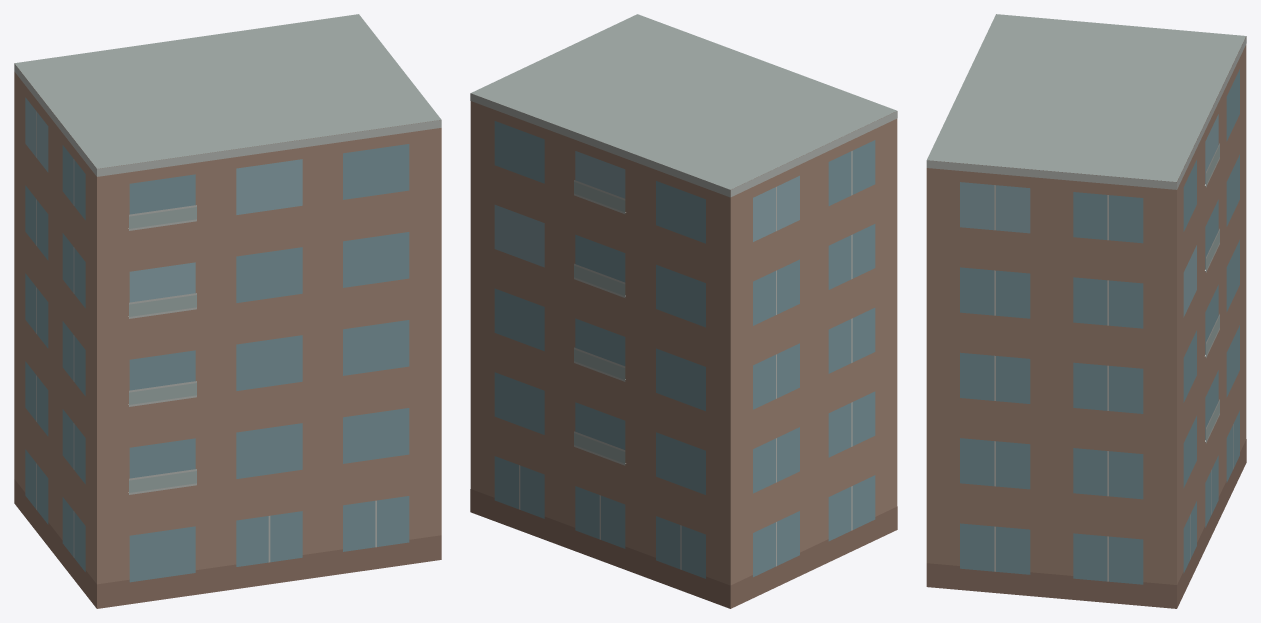
Rendered from survey-upis-32653342.glb.
3 renders of one model, left to right at view 1: azimuth 30°, elevation 25°; view 2: azimuth 150°, elevation 25°; view 3: azimuth 270°, elevation 25°, orthographic. The views are drawn at different scales.
Parts seen in each view (by area): view 1: survey-upis-32653342.tmp; view 2: survey-upis-32653342.tmp; view 3: survey-upis-32653342.tmp.
Part boxes in pixels (<box>): survey-upis-32653342.tmp: <box>14,14,441,608</box>; survey-upis-32653342.tmp: <box>470,14,897,608</box>; survey-upis-32653342.tmp: <box>926,14,1246,608</box>.
Bounding box in the file's own units: 11.29 × 13.35 × 9.08.
